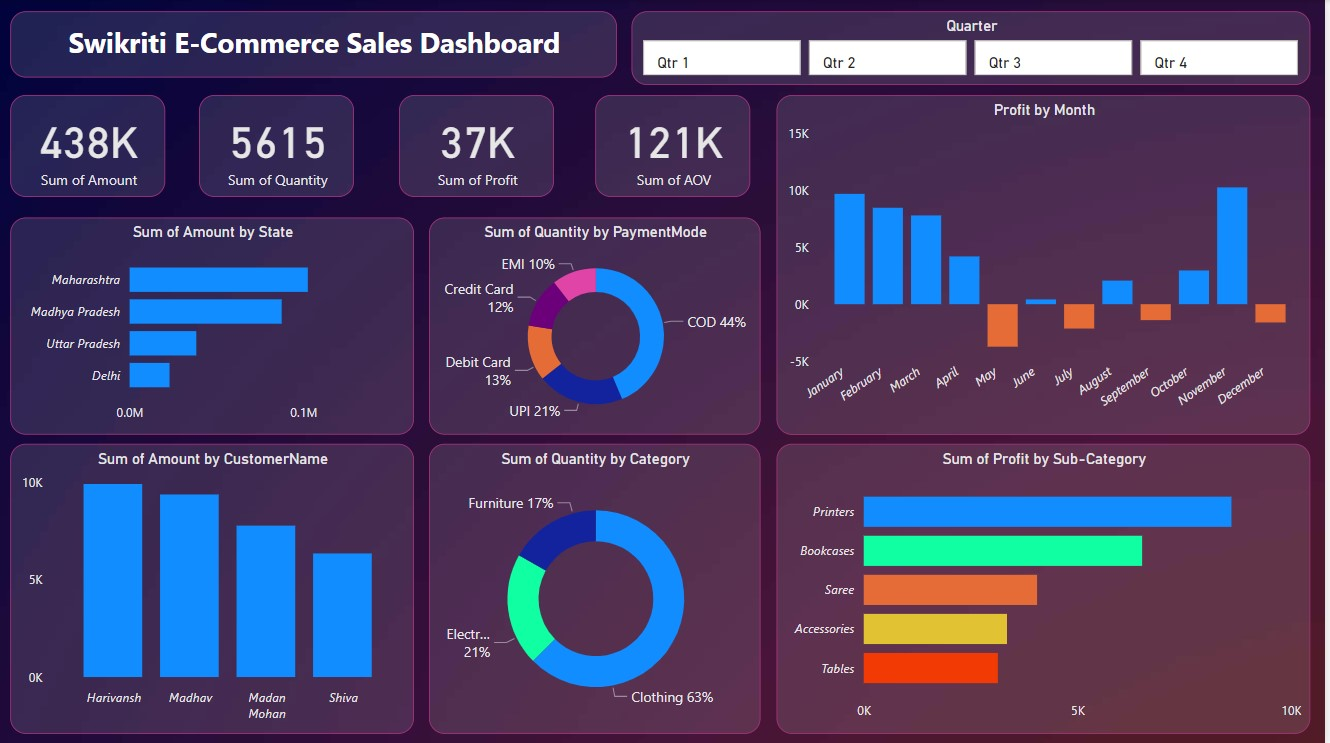

This screenshot's page, from the dashboard's own definition file:
{"tool":"powerbi","page":{"name":"Page 1","canvas":[1280,720],"ordinal":0},"visuals":[{"type":"textbox","box":[11.1,11.1,585.3,63.6],"z":0},{"type":"columnChart","title":"Profit by Month","fields":{"Y":["Details.Profit"],"Category":["Orders.Order Date.Variation.Date Hierarchy.Month"]},"box":[750.8,92.3,515.4,327.7],"z":1000},{"type":"barChart","fields":{"Category":["Details.Sub-Category"],"Y":["Details.Profit"]},"box":[750.8,427.9,515.4,279.9],"z":2000},{"type":"donutChart","fields":{"Category":["Details.Category"],"Y":["Details.Quantity"]},"box":[415.1,427.9,319.7,279.9],"z":3000},{"type":"donutChart","fields":{"Category":["Details.PaymentMode"],"Y":["Details.Quantity"]},"box":[415.1,210,319.7,210],"z":4000},{"type":"card","fields":{"Values":["Details.Amount"]},"box":[11.1,92.3,149.5,98.6],"z":5000},{"type":"card","fields":{"Values":["Details.Quantity"]},"box":[192.5,92.3,149.5,98.6],"z":6000},{"type":"card","fields":{"Values":["Details.Profit"]},"box":[386.5,92.3,149.5,98.6],"z":7000},{"type":"card","fields":{"Values":["Details.Avg Order Value(AOV)"]},"box":[575.8,92.3,149.5,98.6],"z":8000},{"type":"barChart","fields":{"Category":["Orders.State"],"Y":["Details.Amount"]},"box":[11.1,210,389.7,210],"z":9000},{"type":"columnChart","fields":{"Category":["Orders.CustomerName"],"Y":["Details.Amount"]},"box":[11.1,427.9,389.7,279.9],"z":10000},{"type":"advancedSlicerVisual","fields":{"Values":["Orders.Order Date.Variation.Date Hierarchy.Quarter"]},"box":[610.8,11.1,655.3,71.6],"z":11000}]}

Visuals, with their boxes in screenshot pixels (x1, y1, x2, y2), scaled from the page's 1280x720 canvas onto the 1330x743 screenshot:
textbox: x1=12, y1=11, x2=620, y2=77
"Profit by Month" columnChart: x1=780, y1=95, x2=1316, y2=433
barChart - Details.Sub-Category x Details.Profit: x1=780, y1=442, x2=1316, y2=730
donutChart - Details.Category x Details.Quantity: x1=431, y1=442, x2=764, y2=730
donutChart - Details.PaymentMode x Details.Quantity: x1=431, y1=217, x2=764, y2=433
card - Details.Amount: x1=12, y1=95, x2=167, y2=197
card - Details.Quantity: x1=200, y1=95, x2=355, y2=197
card - Details.Profit: x1=402, y1=95, x2=557, y2=197
card - Details.Avg Order Value(AOV): x1=598, y1=95, x2=754, y2=197
barChart - Orders.State x Details.Amount: x1=12, y1=217, x2=416, y2=433
columnChart - Orders.CustomerName x Details.Amount: x1=12, y1=442, x2=416, y2=730
advancedSlicerVisual - Orders.Order Date.Variation.Date Hierarchy.Quarter: x1=635, y1=11, x2=1316, y2=85
